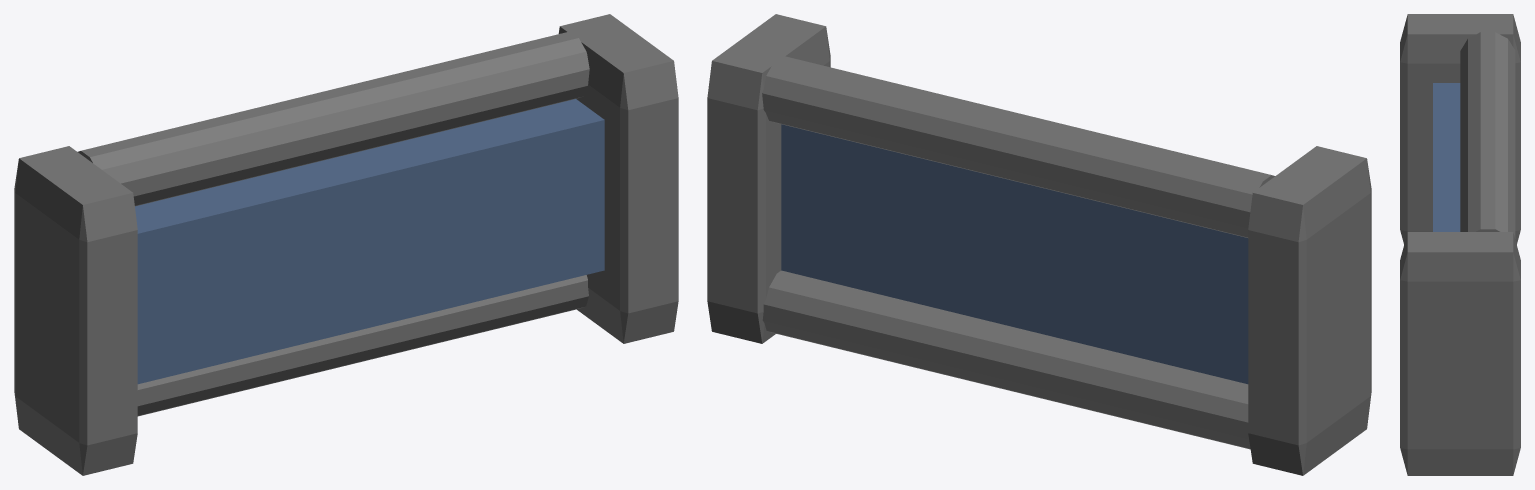
File: Window(OOR).fbx
The picture shows the model from 3 angles, left to right: view 1: azimuth 30°, elevation 25°; view 2: azimuth 150°, elevation 25°; view 3: azimuth 270°, elevation 25°; orthographic projection. The views are drawn at different scales.
Parts seen in each view (by area): view 1: cube, beveled_cuboid_1, cylinder, beveled_cuboid, cylinder_1; view 2: cube, beveled_cuboid_1, cylinder, cylinder_1, beveled_cuboid; view 3: beveled_cuboid, beveled_cuboid_1, cylinder, cube.
Part boxes in pixels (x1,y1,x2,y2): cube: (135,99,604,384); beveled_cuboid_1: (14,146,137,475); cylinder: (78,31,589,206); beveled_cuboid: (558,14,678,343); cylinder_1: (137,275,588,416); cube: (781,124,1248,384); beveled_cuboid_1: (1248,146,1371,475); cylinder: (762,56,1274,237); cylinder_1: (762,270,1250,449); beveled_cuboid: (707,14,830,343); beveled_cuboid: (1400,232,1520,475); beveled_cuboid_1: (1400,14,1520,244); cylinder: (1460,32,1515,238); cube: (1433,83,1460,231).
Size of the model in its own units: 130 by 56.88 by 27.5.
5 materials, 5 textured.
